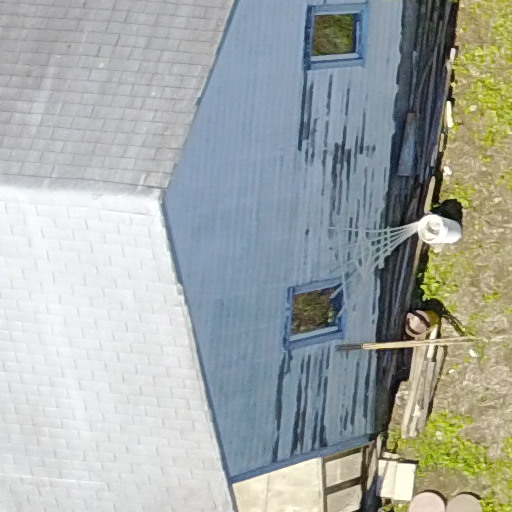container: (414, 202, 481, 253), (399, 291, 444, 339)
